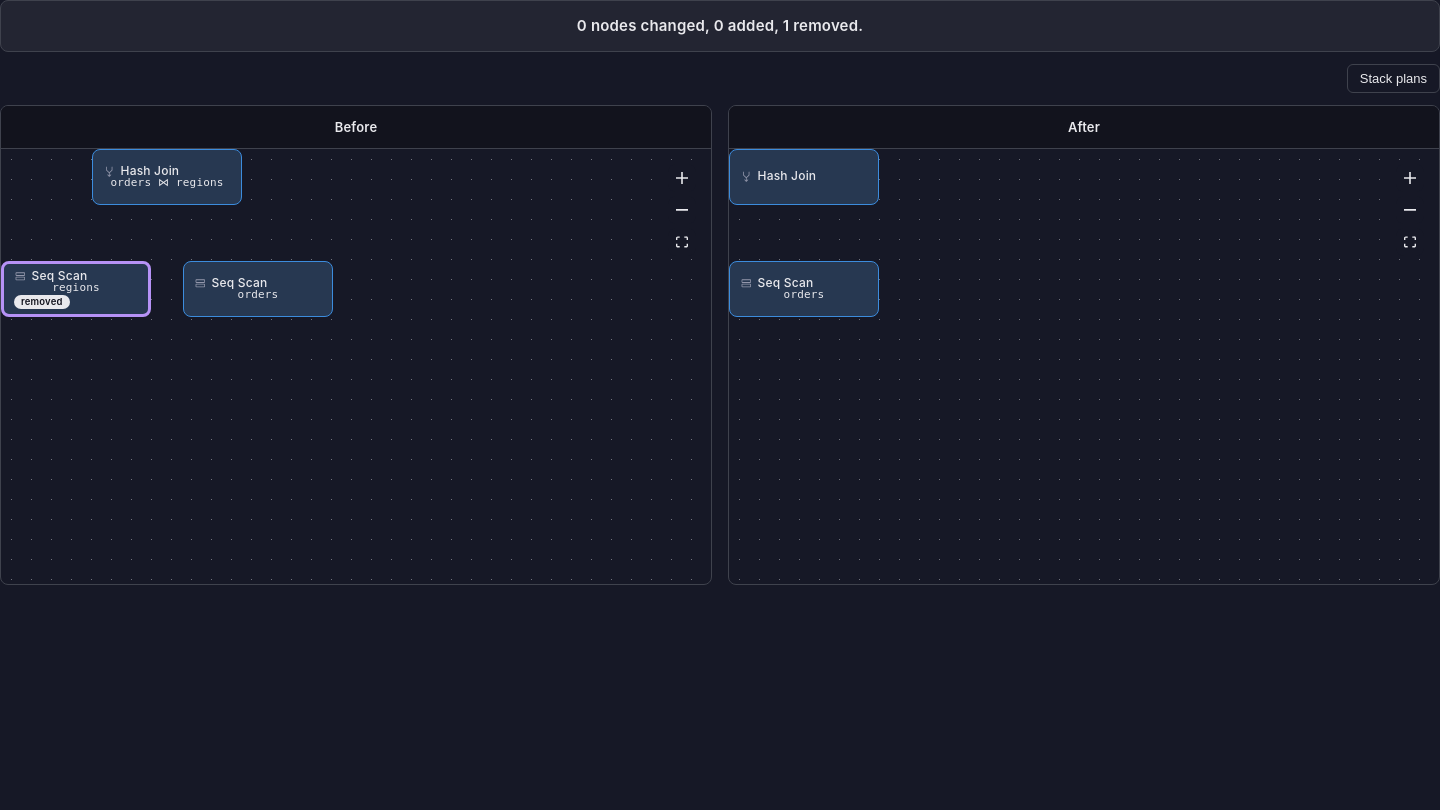
Test case: PlanComparisonView › clicking a removed-in-B node shows a no-match notice instead of syncing a nonexistent counterpart
Click the button "Seq Scan regions removed": (76, 289) [1,261,151,317]
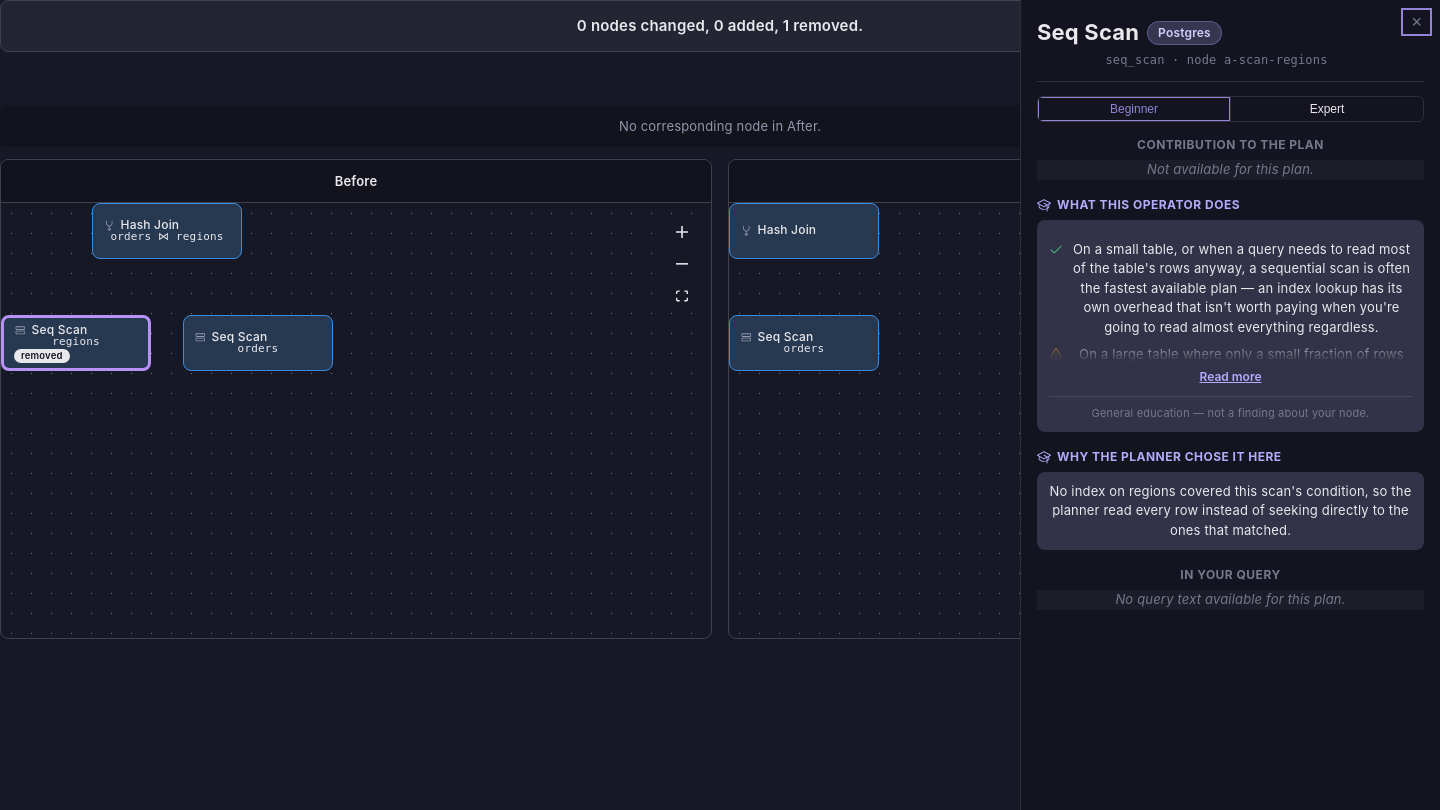
Now the message with test id "comparison-no-match-notice" reads "No corresponding node in After.", box [619,118,821,134]
